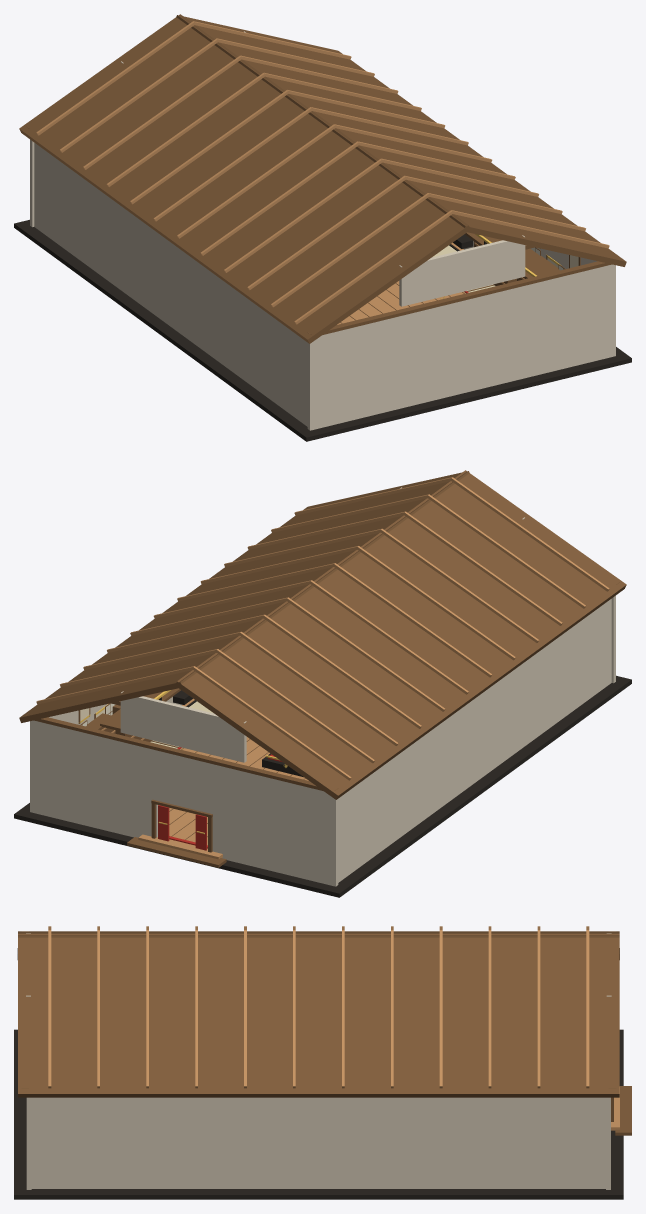
Rendered from room-1780102627992-rebel_library.glb.
3 views of the same model, one above another, from view 1: azimuth 30°, elevation 25°; view 2: azimuth 150°, elevation 25°; view 3: azimuth 270°, elevation 25° (orthographic). The views are drawn at different scales.
Visible parts, largest first — view 1: STATIC_GROUP_dark_wood, STATIC_GROUP_wall, STATIC_GROUP_floor_wood, STATIC_GROUP_black; view 2: STATIC_GROUP_dark_wood, STATIC_GROUP_wall, STATIC_GROUP_floor_wood, STATIC_GROUP_black, STATIC_GROUP_red; view 3: STATIC_GROUP_dark_wood, STATIC_GROUP_wall, STATIC_GROUP_black, STATIC_GROUP_floor_wood.
Part boxes in pixels (x1=…): STATIC_GROUP_dark_wood: x1=19, y1=14, x2=626, y2=343; STATIC_GROUP_wall: x1=30, y1=31, x2=615, y2=430; STATIC_GROUP_floor_wood: x1=36, y1=21, x2=609, y2=324; STATIC_GROUP_black: x1=14, y1=219, x2=631, y2=441; STATIC_GROUP_dark_wood: x1=19, y1=470, x2=626, y2=867; STATIC_GROUP_wall: x1=30, y1=487, x2=615, y2=886; STATIC_GROUP_floor_wood: x1=36, y1=477, x2=609, y2=859; STATIC_GROUP_black: x1=14, y1=675, x2=631, y2=897; STATIC_GROUP_red: x1=158, y1=747, x2=282, y2=850; STATIC_GROUP_dark_wood: x1=18, y1=931, x2=631, y2=1135; STATIC_GROUP_wall: x1=26, y1=933, x2=611, y2=1189; STATIC_GROUP_black: x1=14, y1=948, x2=623, y2=1199; STATIC_GROUP_floor_wood: x1=48, y1=926, x2=619, y2=1130.
Size of the model in its own units: 28.4 by 14.93 by 44.8.
